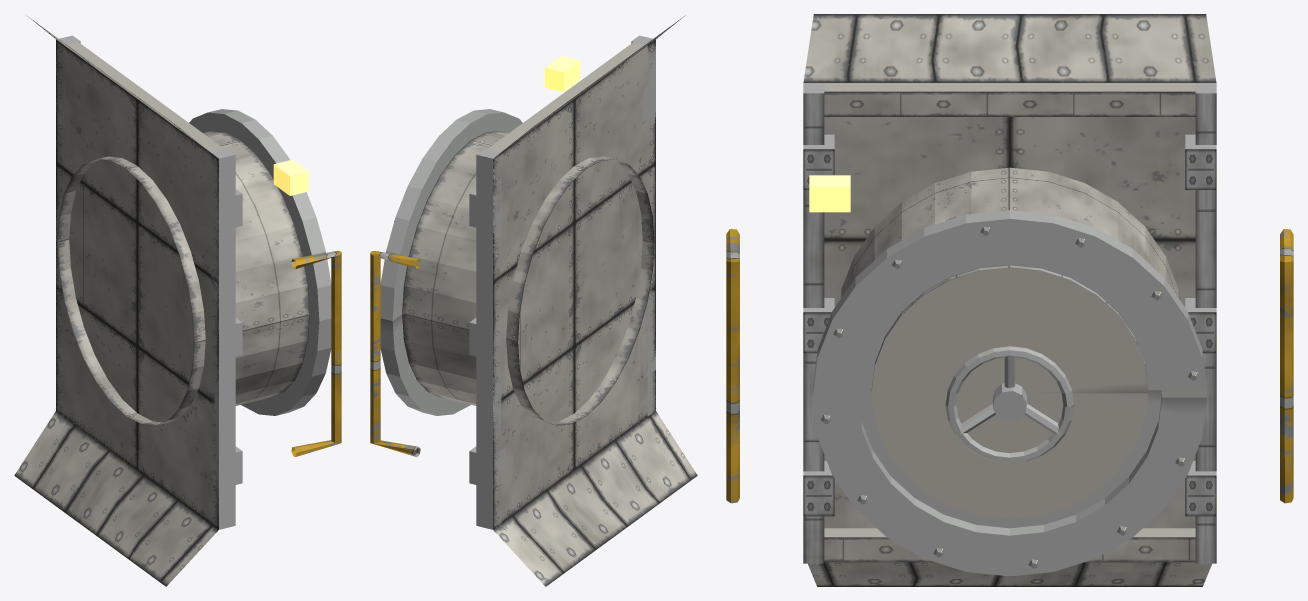
File: cen_eva.fbx
3 renders of one model, left to right at view 1: azimuth 30°, elevation 25°; view 2: azimuth 150°, elevation 25°; view 3: azimuth 270°, elevation 25°, orthographic. The views are drawn at different scales.
Parts seen in each view (by area): view 1: cen_eva; view 2: cen_eva; view 3: cen_eva.
Boxes of the visible parts, x1,y1,x2,y2 form: cen_eva: [14, 15, 341, 586]; cen_eva: [370, 15, 697, 586]; cen_eva: [726, 14, 1293, 586].
Bounding box in the file's own units: 0.7655 × 1.85 × 1.64.
Materials: 1 (1 with a texture image).
